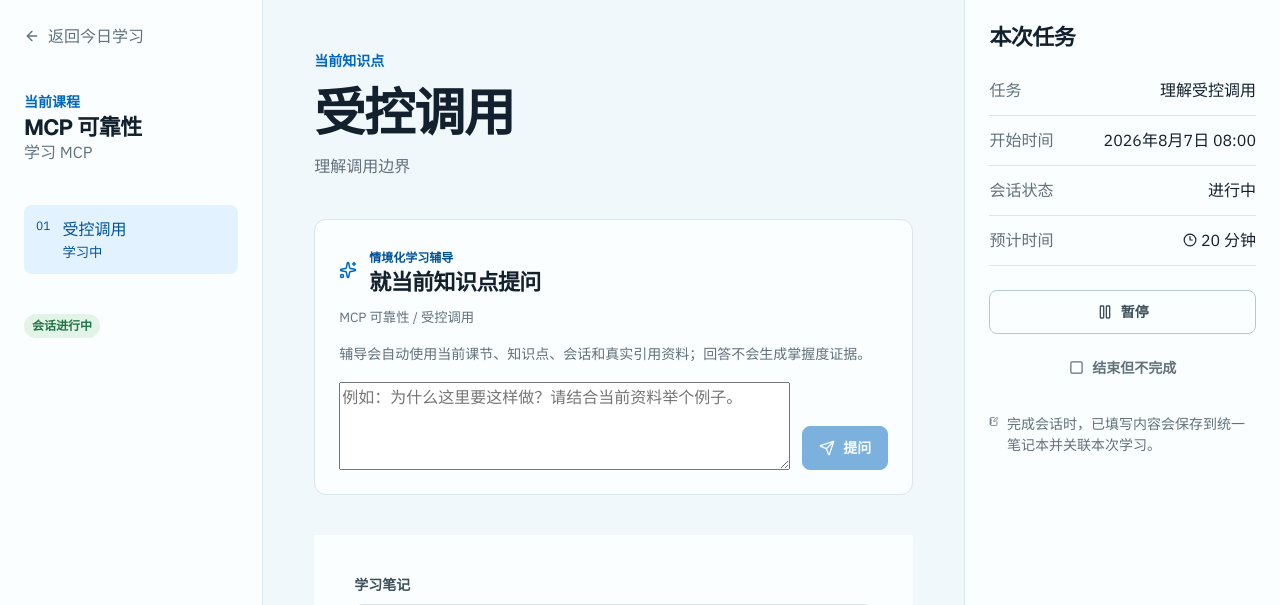
V11C LearningSession 情境化辅导 › 上下文不匹配时要求重新选择学习位置
This screenshot has width=1280, height=605.
Step 1. Type "为什么这样设计？" into the text box named "向当前知识点的学习导师提问" → (565, 426), box [339,382,790,470]
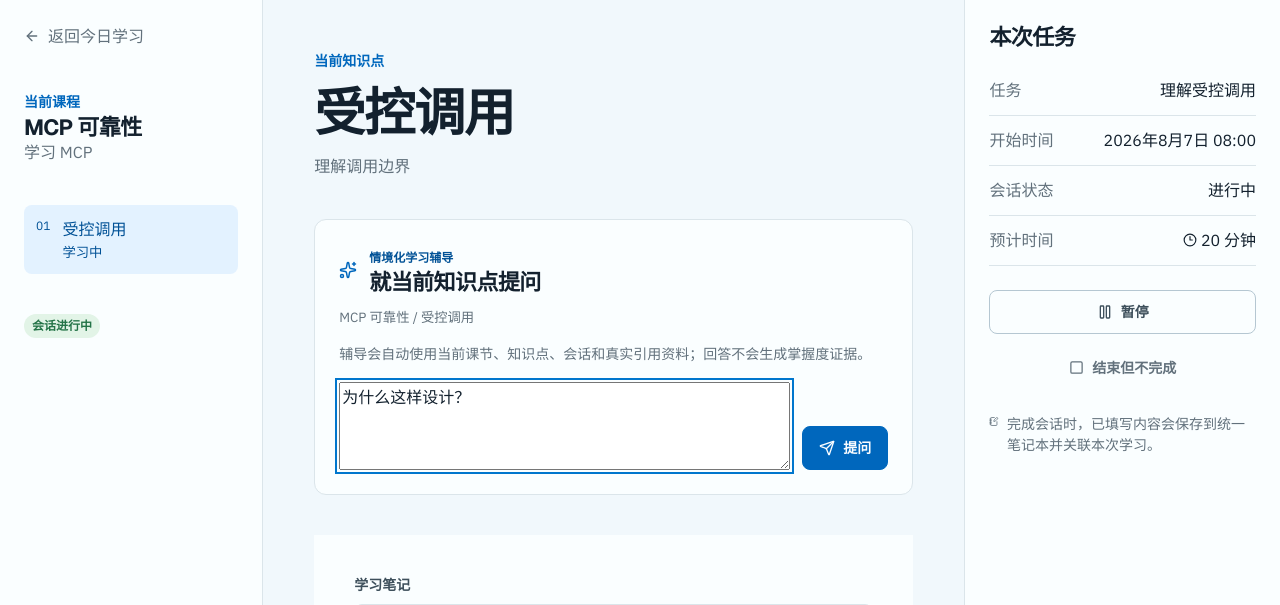
Step 2. Click the button "提问" → (845, 448), box [802,426,888,470]
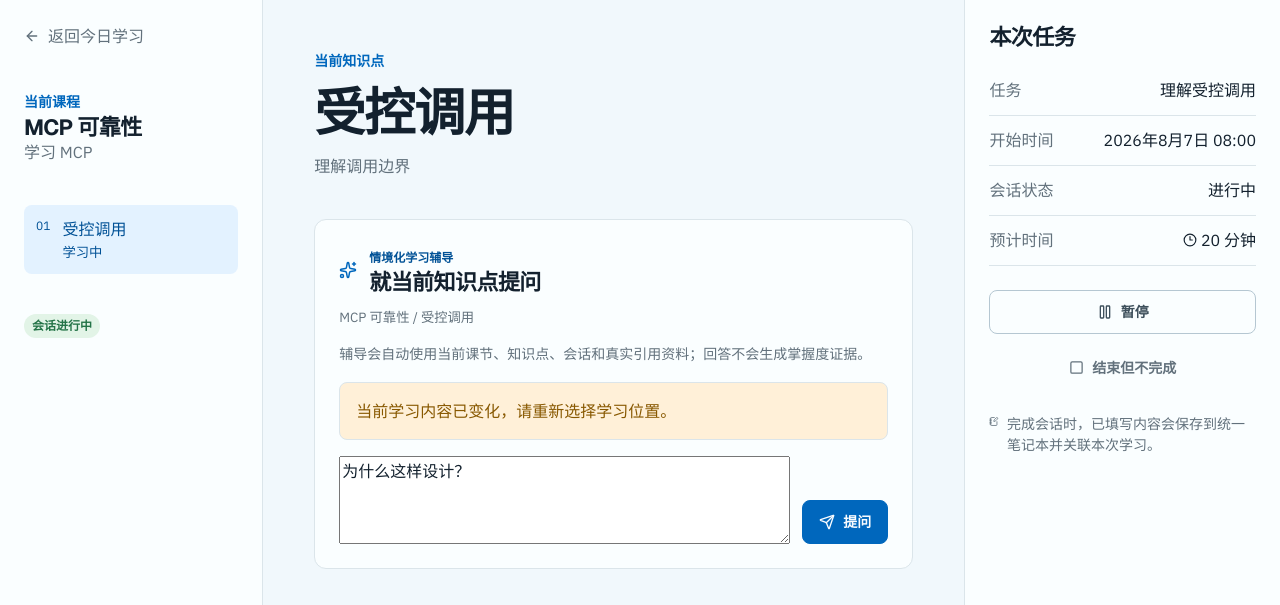
expect the message reads "当前学习内容已变化，请重新选择学习位置。": met, box [356,400,676,420]
